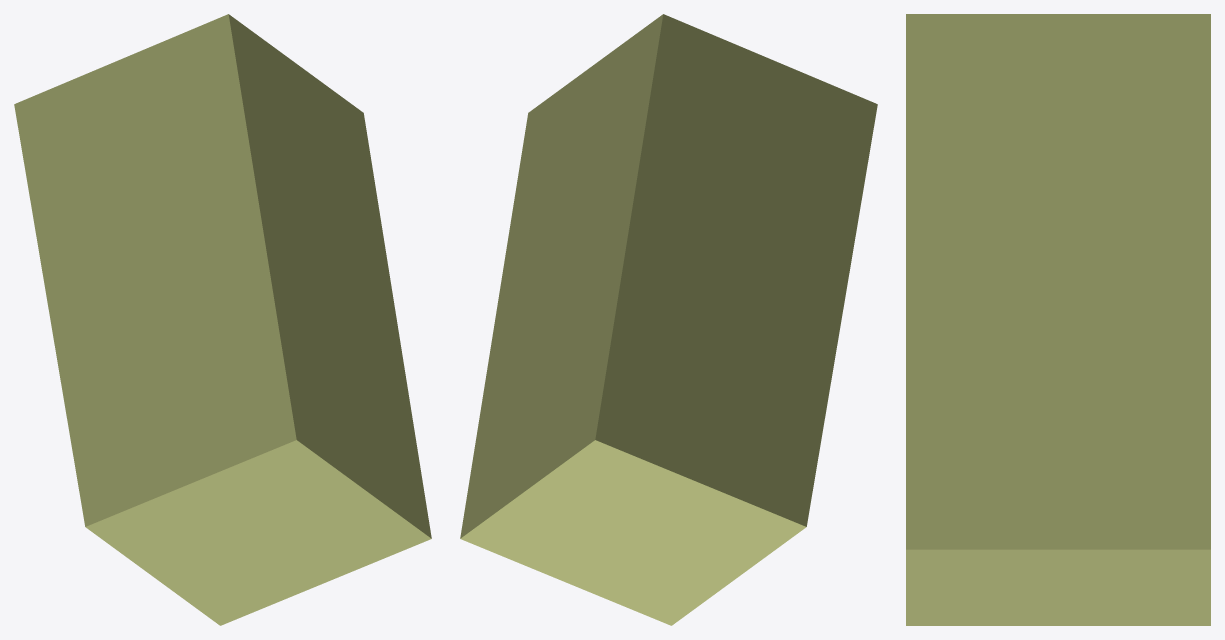
3 views of the same model, side by side, from view 1: azimuth 30°, elevation 25°; view 2: azimuth 150°, elevation 25°; view 3: azimuth 270°, elevation 25° (orthographic). The views are drawn at different scales.
Visible parts, largest first — view 1: 0_1_0_2_0_0_0_1_2_0_0; view 2: 0_1_0_2_0_0_0_1_2_0_0; view 3: 0_1_0_2_0_0_0_1_2_0_0.
Boxes of the visible parts, x1,y1,x2,y2 form: 0_1_0_2_0_0_0_1_2_0_0: (14,14,431,625); 0_1_0_2_0_0_0_1_2_0_0: (460,14,877,625); 0_1_0_2_0_0_0_1_2_0_0: (906,14,1210,625).
Bounding box in the file's own units: 7.24 × 11.71 × 6.
